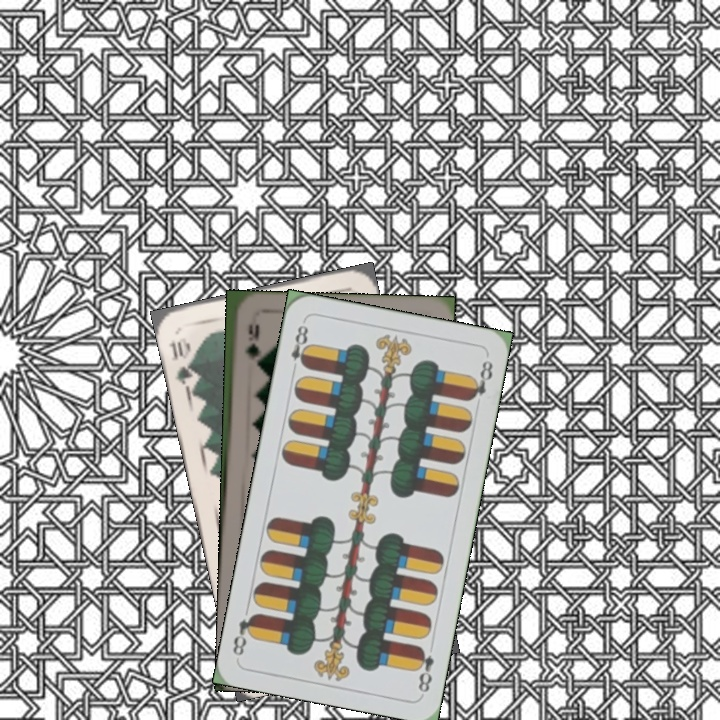E8: (287, 321, 313, 376), (411, 643, 437, 695)
G10: (164, 337, 198, 389)
G9: (241, 320, 260, 361)
